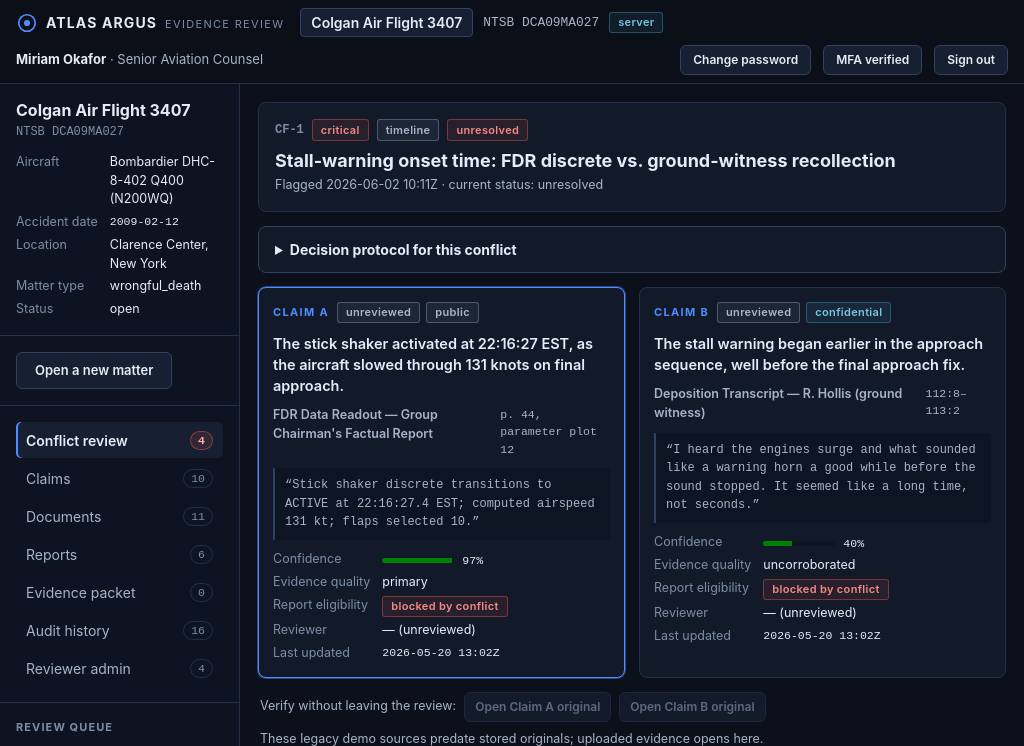
server mode › signs out back to the sign-in screen
Click the button "Sign out": click(971, 60) left=934, top=45, right=1008, bottom=75
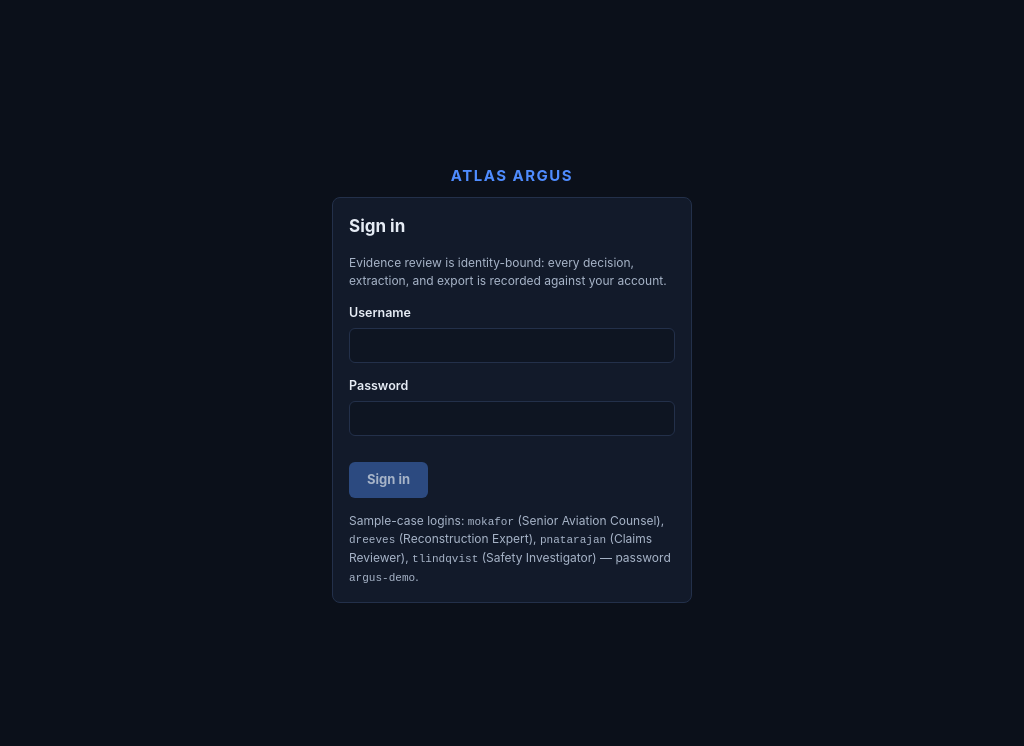
Expected: the heading "Sign in" is shown, left=349, top=216, right=405, bottom=236
